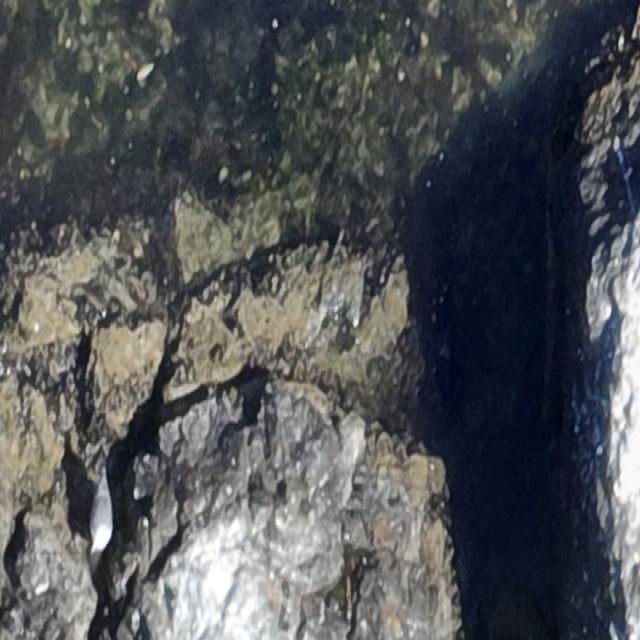umineko: (90, 468, 116, 555)
